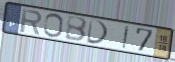7: (134, 27, 155, 53)
B: (64, 15, 89, 43)
D: (86, 18, 111, 46)
I: (121, 24, 131, 50)
O: (42, 13, 65, 39)
R: (19, 7, 44, 37)
